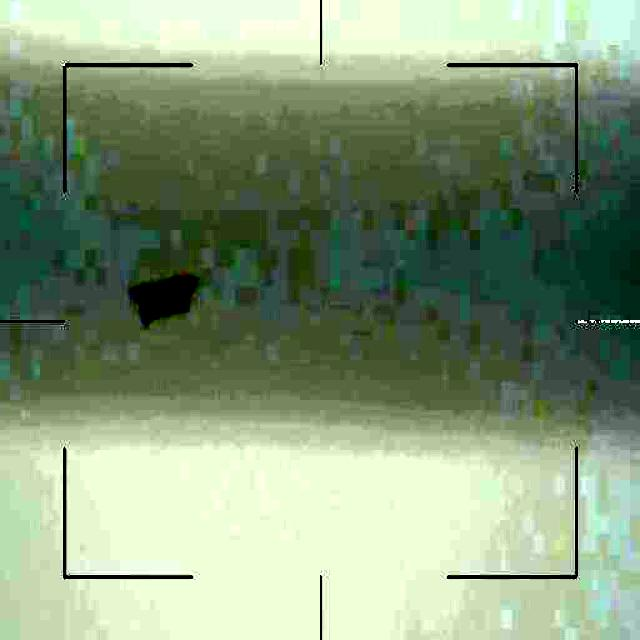bird: (136, 272, 195, 316)
